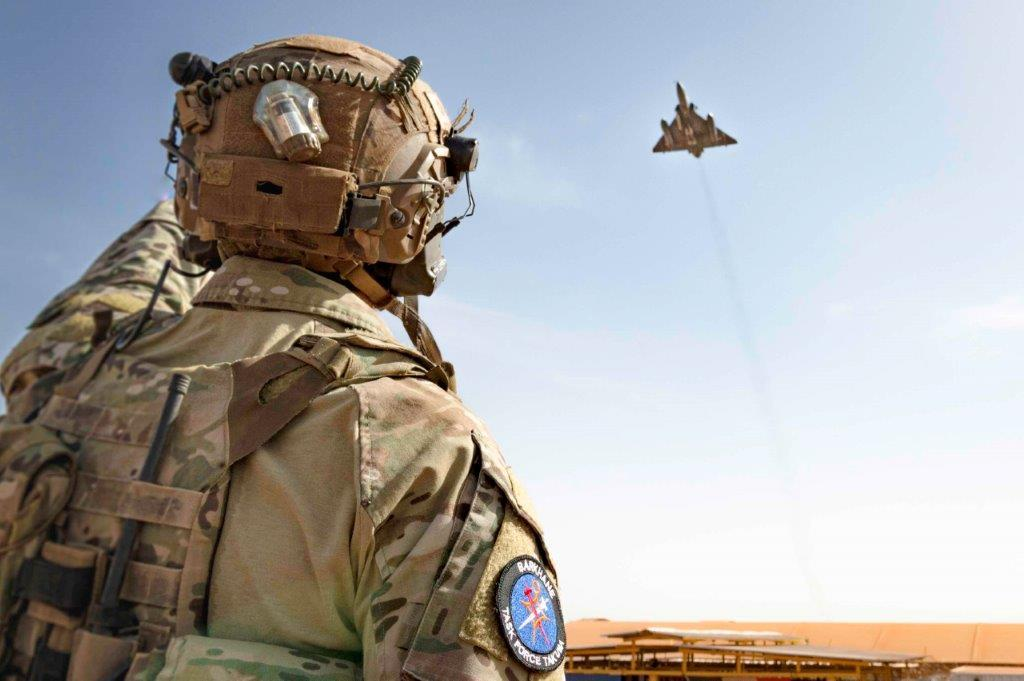Mirage2000: (651, 81, 739, 159)
